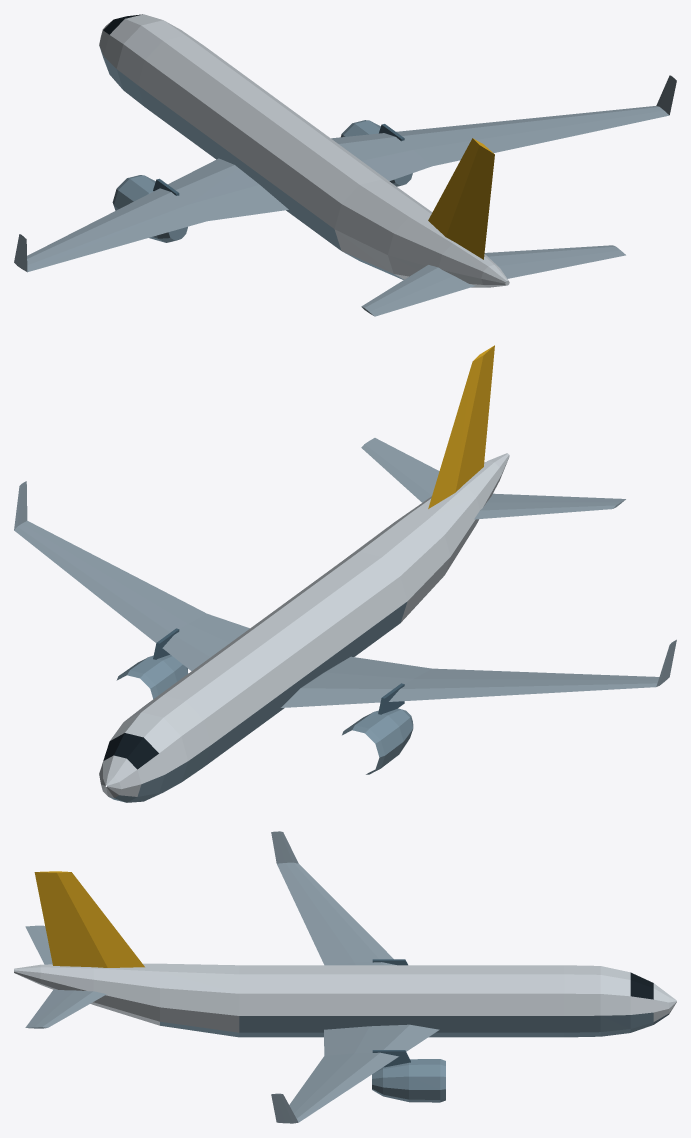
The picture shows the model from 3 angles, top to bottom: view 1: azimuth 30°, elevation 25°; view 2: azimuth 150°, elevation 25°; view 3: azimuth 270°, elevation 25°; orthographic projection. The views are drawn at different scales.
Visible parts, largest first — view 1: lod0; view 2: lod0; view 3: lod0.
Boxes of the visible parts, box(x1,y1,x2,y2) form: lod0: box(14, 14, 676, 316); lod0: box(14, 345, 676, 802); lod0: box(14, 831, 676, 1123).
Size of what is drawn, in the model's own units: 0.9357 by 0.3034 by 1.
